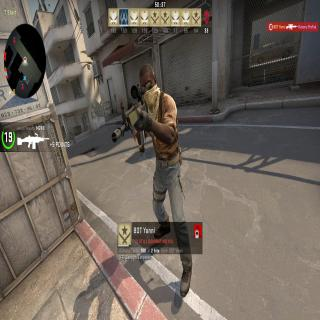T-Body: (136, 65, 192, 301)
T-Head: (139, 66, 157, 100)
